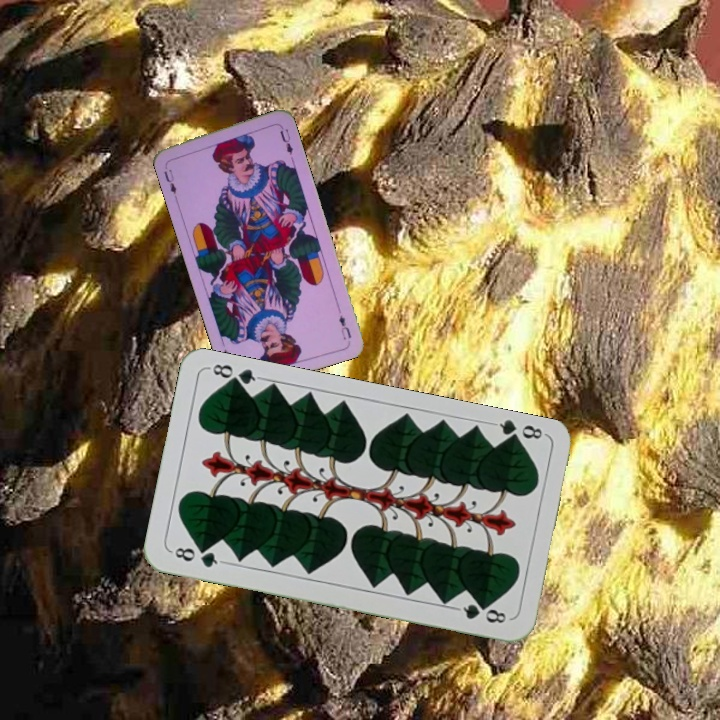EU: (160, 160, 179, 200), (335, 311, 354, 343)
G8: (489, 416, 548, 447), (167, 543, 226, 570)
